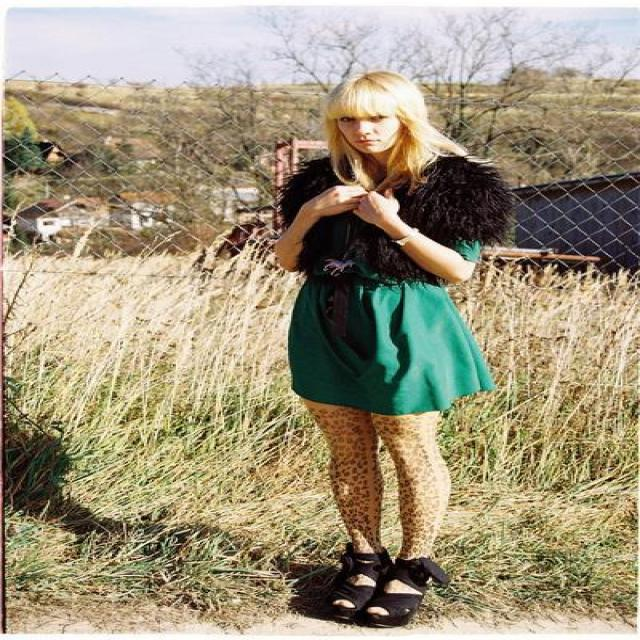dress: (288, 269, 490, 415)
jacket: (275, 155, 509, 293)
shoe: (310, 551, 430, 626)
